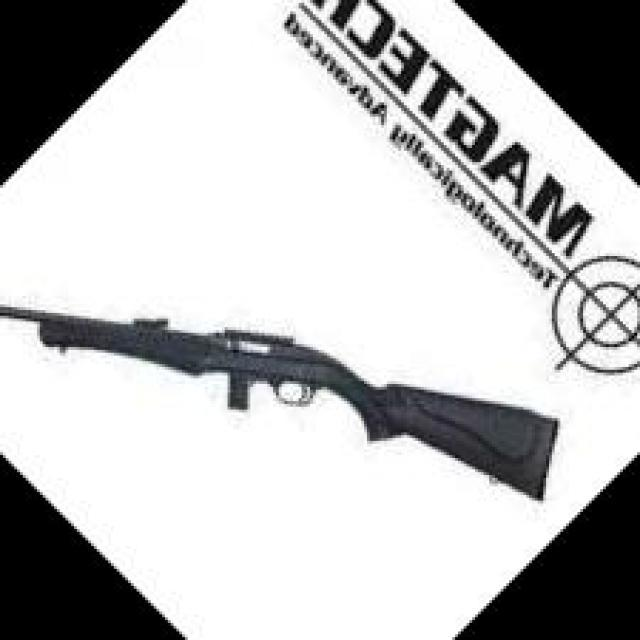weapon: (1, 304, 562, 504)
